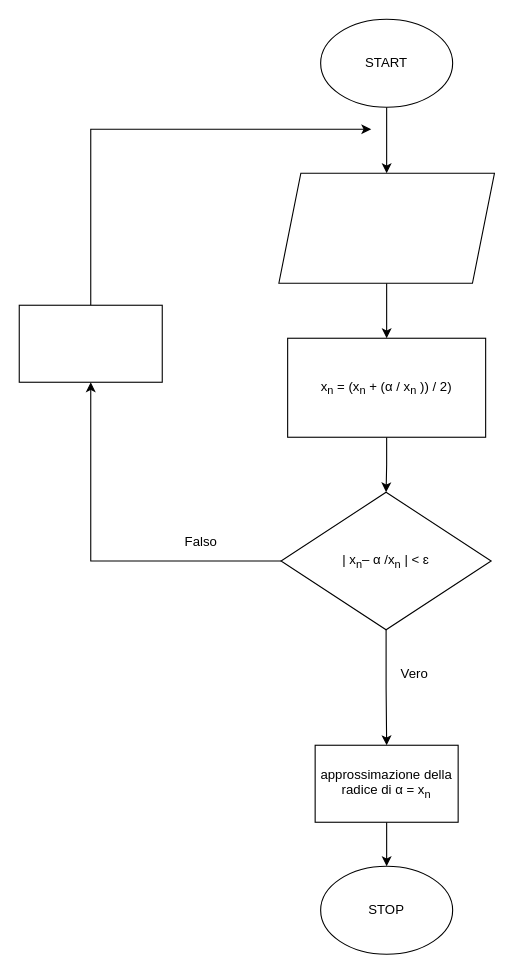
This 514x974 diagram has some shape labels left out. Here are the shapes that lost their labels. From the top down, the centre of each, then its label:
At [386,227]: "α = 3 n = 1 x n = 0.5 x n+1 = 0 ɛ = 0.000001".
At [90,343]: "n = n + 1".
